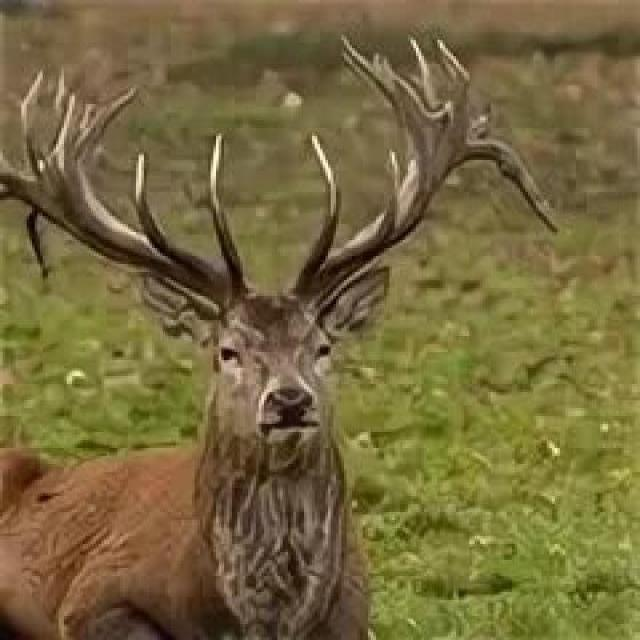deer: (0, 63, 531, 608)
